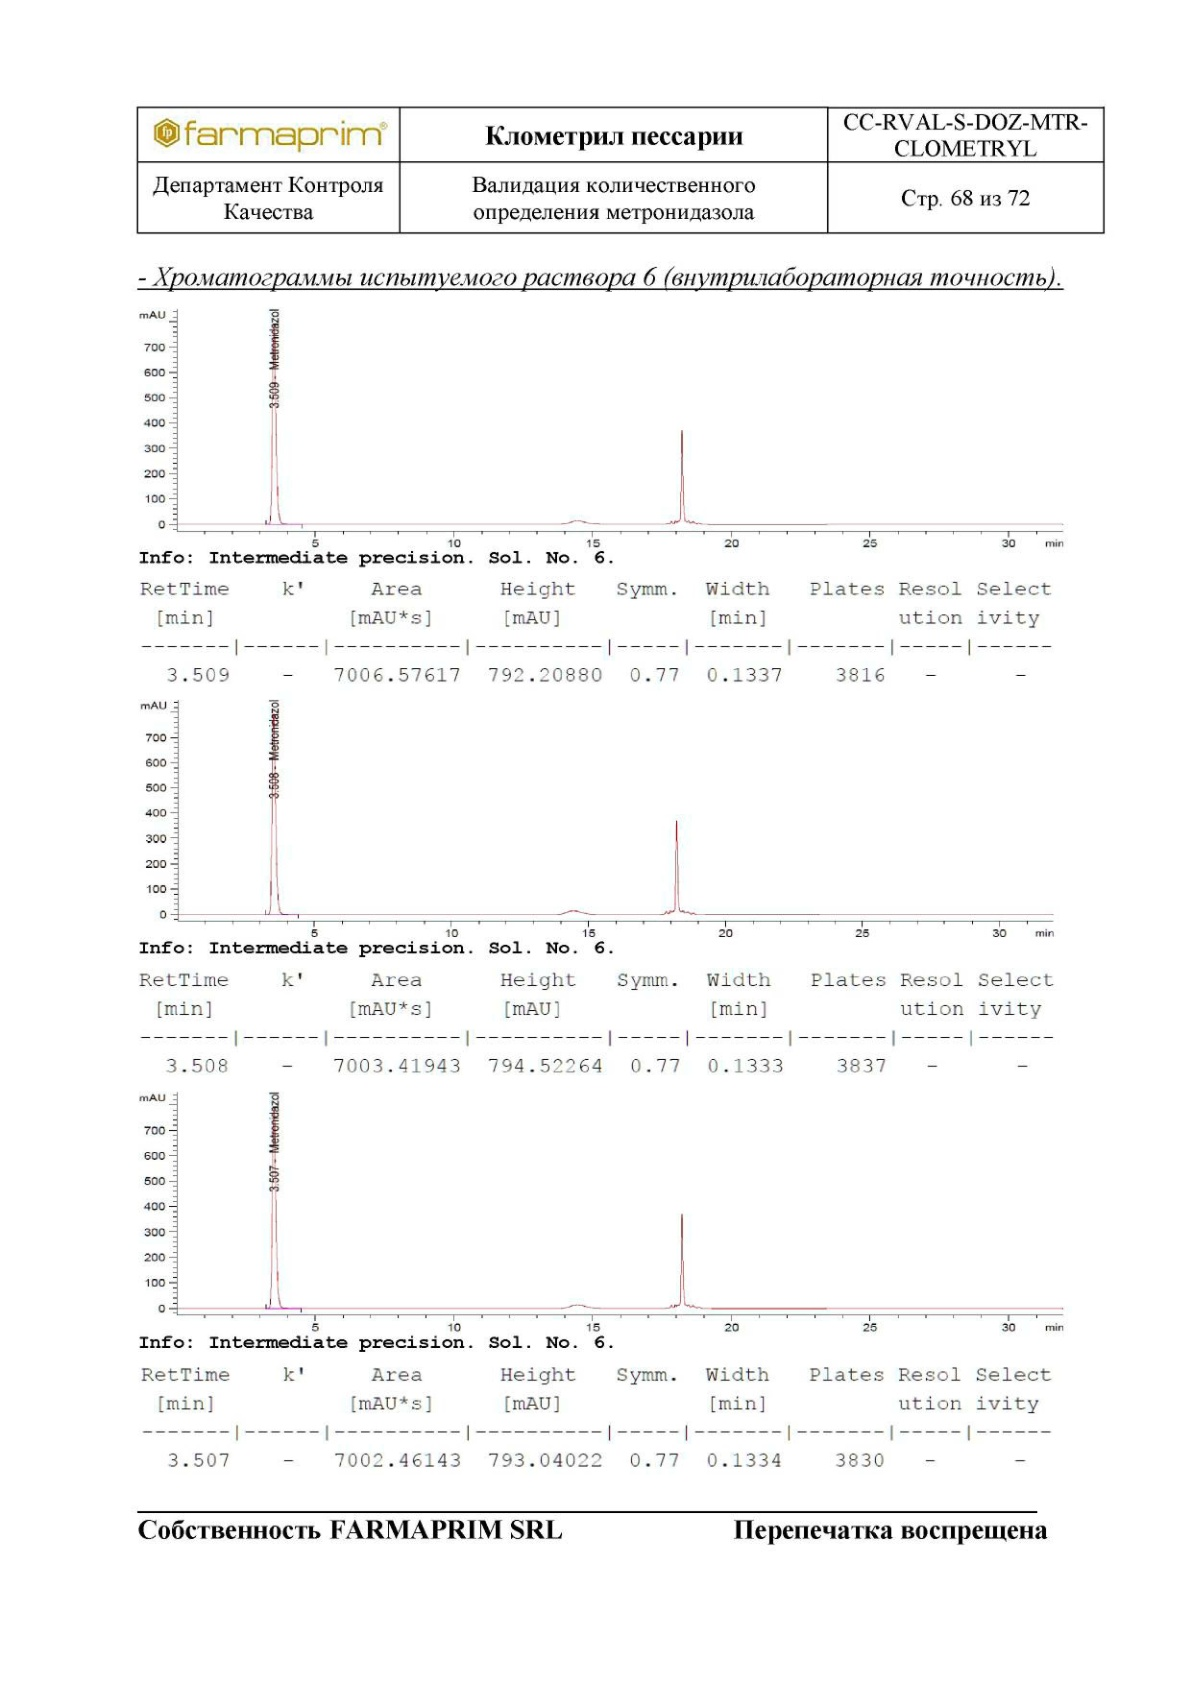full_lined: (133, 104, 1106, 236)
partial_lined: (138, 1363, 1057, 1479), (135, 968, 1060, 1081), (137, 579, 1057, 689)
